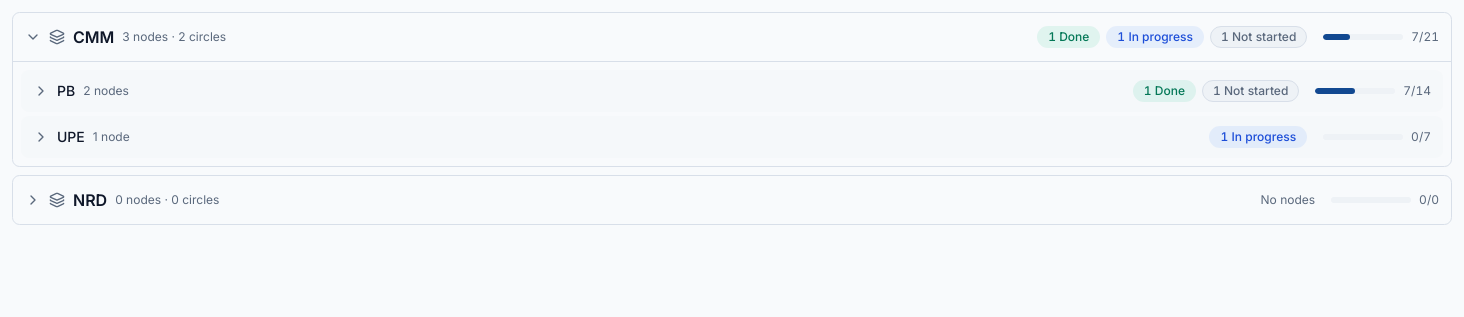
Test: NodeExplorer › points at the full list when a circle has more nodes than one page
Click the text "PB".
click(66, 91)  # box x1=57 y1=81 x2=75 y2=101
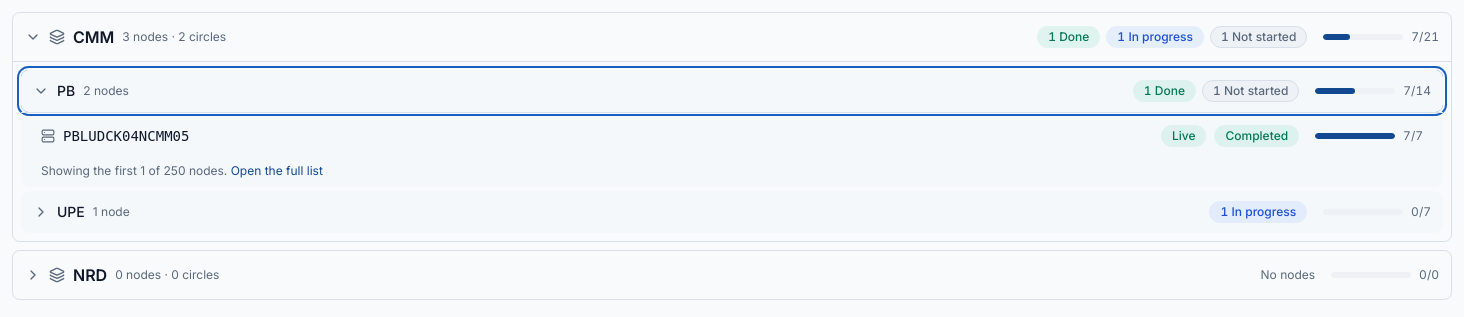
Now the text "Showing the first 1 of 250 nodes. Open the full list" is shown, box x1=41 y1=163 x2=323 y2=178
